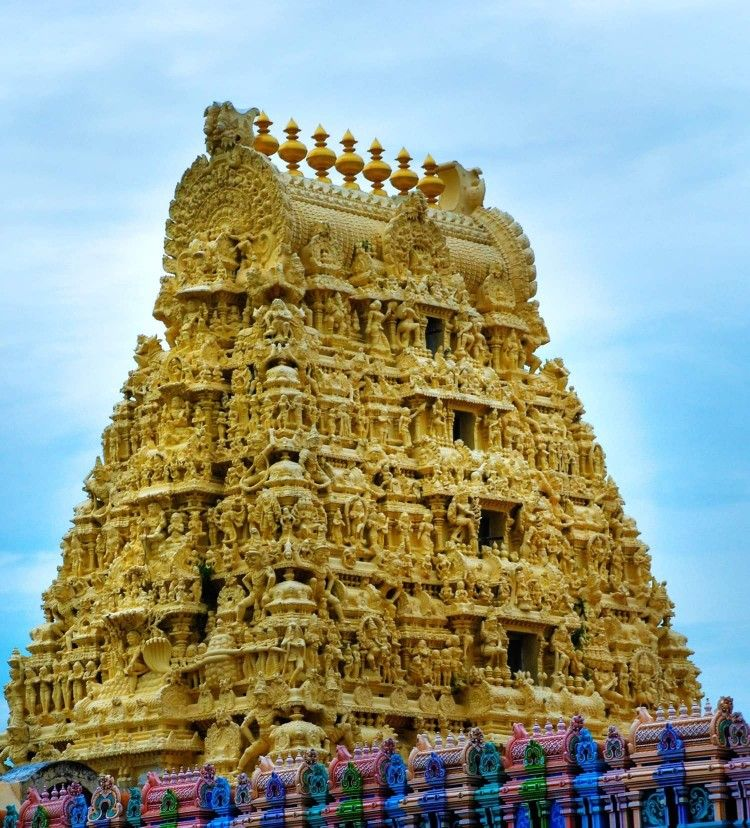Temple: (22, 99, 734, 808)
